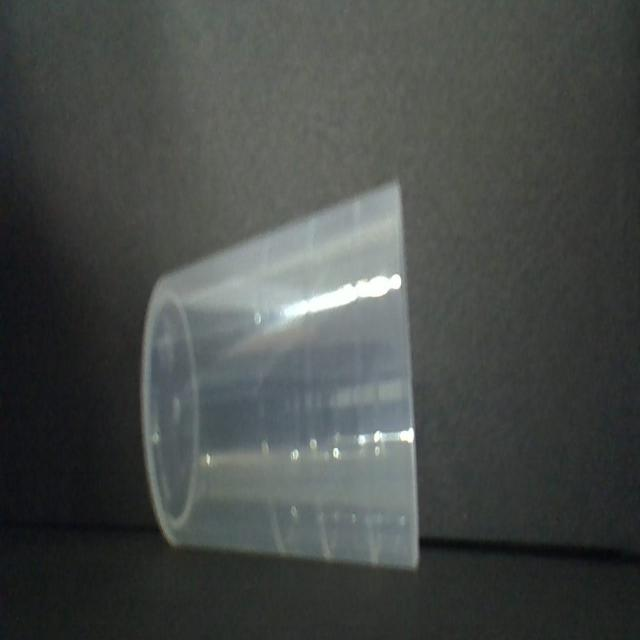cup: (146, 179, 426, 580)
